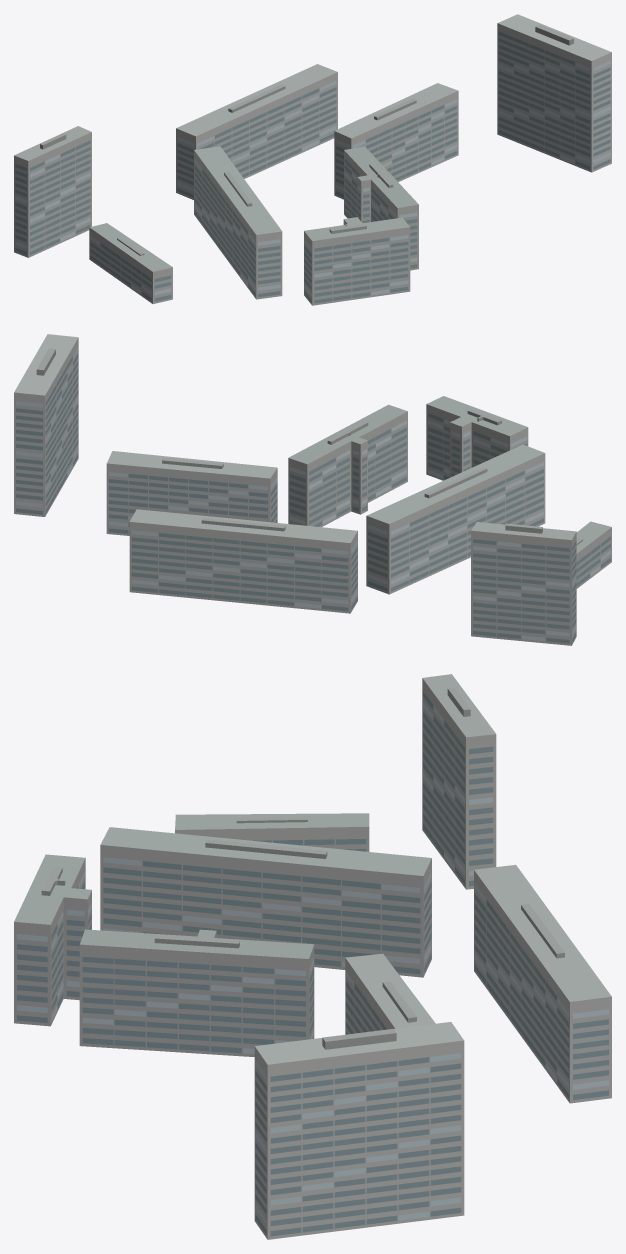
The model's file is apt-a15383905.glb.
The picture shows the model from 3 angles, top to bottom: view 1: azimuth 30°, elevation 25°; view 2: azimuth 150°, elevation 25°; view 3: azimuth 270°, elevation 25°; orthographic projection. The views are drawn at different scales.
Visible parts, largest first — view 1: apt-a15383905; view 2: apt-a15383905; view 3: apt-a15383905.
Part boxes in pixels (<box>): apt-a15383905: <box>14,14,611,305</box>; apt-a15383905: <box>14,334,611,645</box>; apt-a15383905: <box>14,674,611,1239</box>.
Size of the model in its own units: 266 by 55 by 163.
